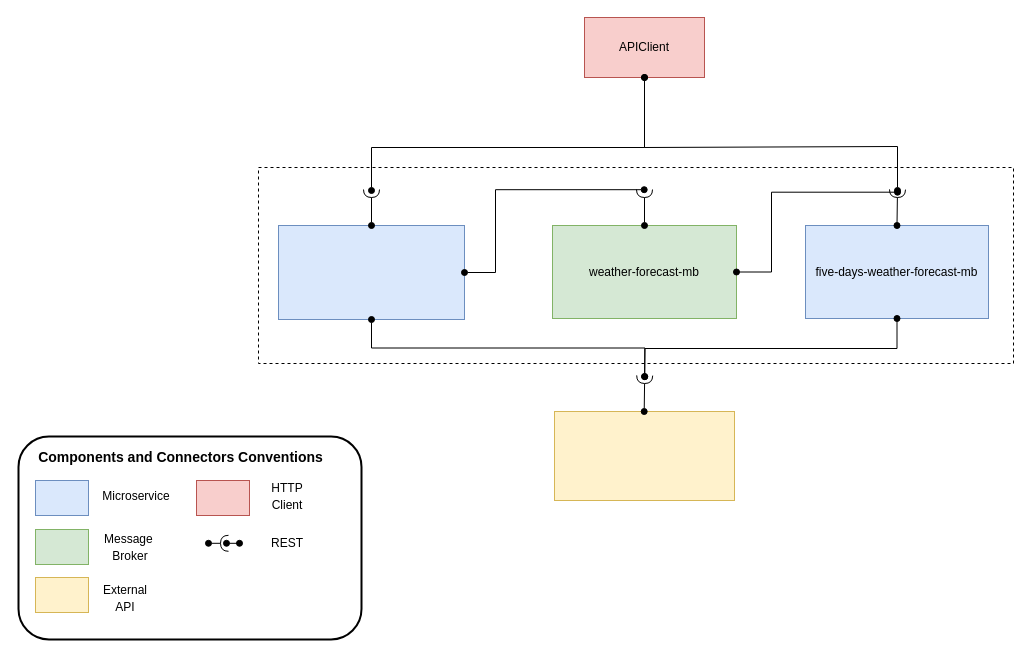
Image size: 1031x658. Some labels were removed from this diagram. The shapes that lost their labels are listed below. From the top down, each one's centre as x and y in pixels, then its label:
At [371,272]: "today-weather-ms".
At [644,455]: "OpenWeatherAPI".
